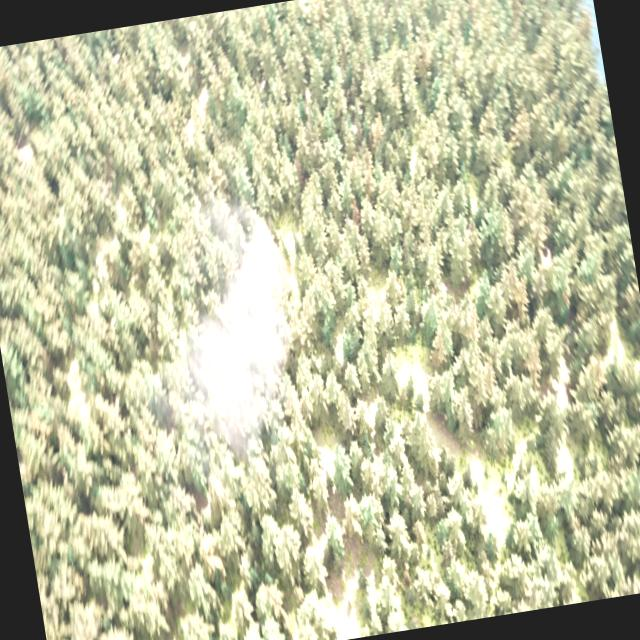smoke: (136, 200, 312, 447)
